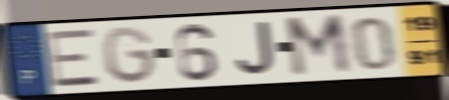0: (347, 14, 401, 72)
6: (173, 21, 220, 84)
E: (44, 27, 103, 90)
G: (99, 24, 158, 86)
J: (233, 19, 277, 78)
M: (282, 11, 355, 80)
